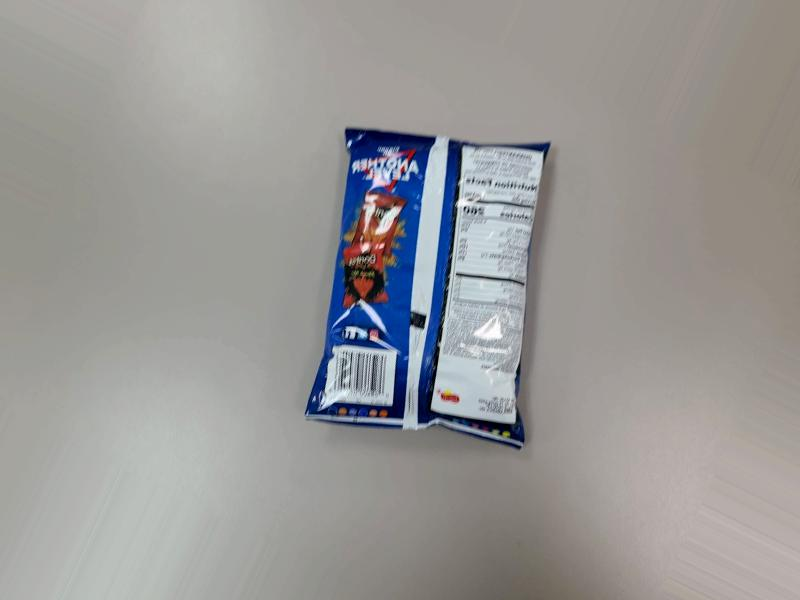doritos: (307, 137, 522, 446)
